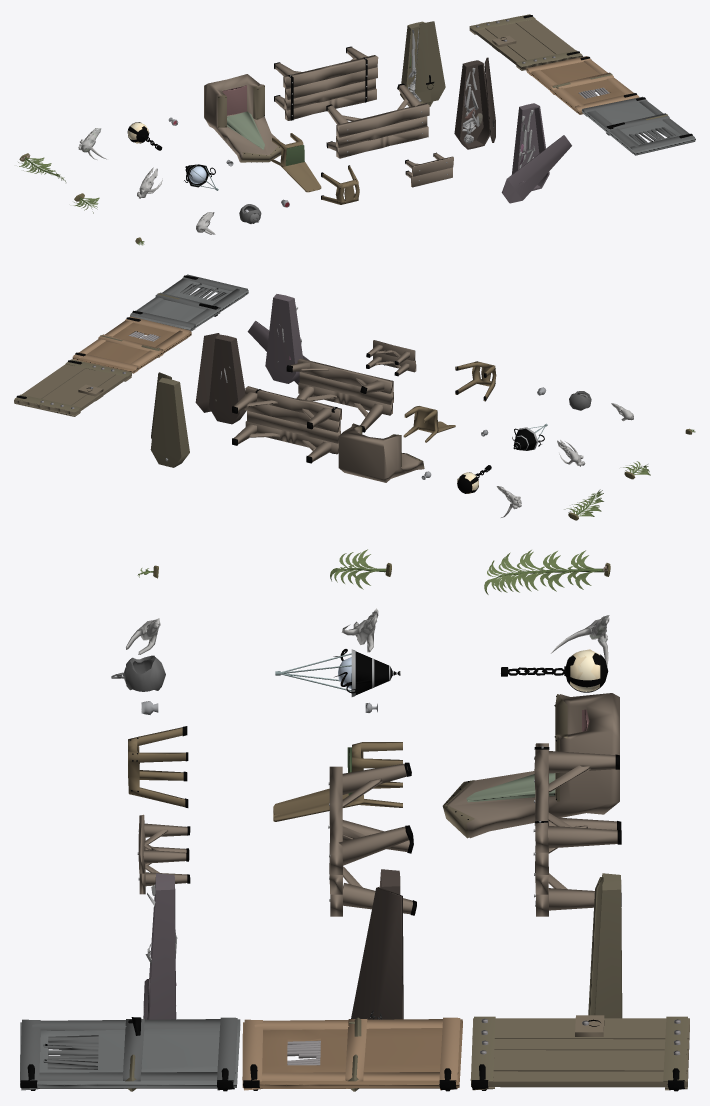
Rendered from ascending-complexity-low-poly-daggerfall-6aa39c.glb.
3 renders of one model, top to bottom at view 1: azimuth 30°, elevation 25°; view 2: azimuth 150°, elevation 25°; view 3: azimuth 270°, elevation 25°, orthographic. The views are drawn at different scales.
Visible parts, largest first — view 1: PropMesh; view 2: PropMesh; view 3: PropMesh.
Part boxes in pixels (box(x1,y1,x2,y2)): PropMesh: box(18, 14, 695, 245); PropMesh: box(14, 274, 695, 520); PropMesh: box(20, 549, 689, 1091).
Size of the model in its own units: 13.82 by 2.2 by 7.41.
